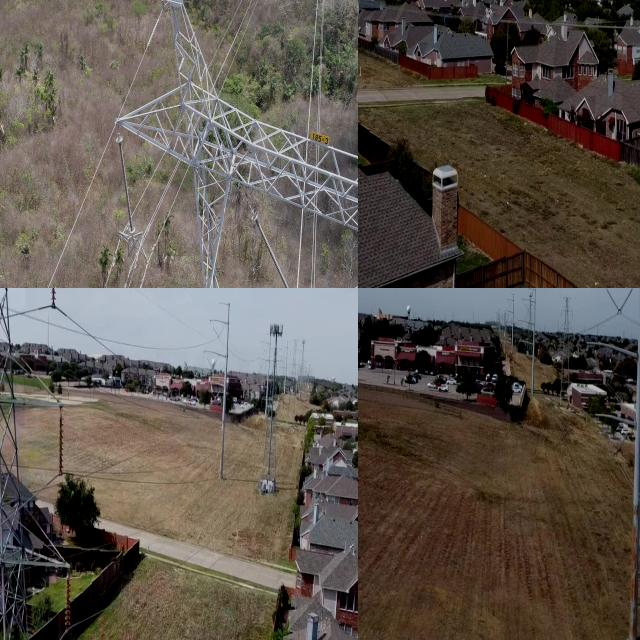杆塔: (113, 0, 358, 288), (0, 288, 79, 640), (254, 312, 286, 496), (557, 293, 574, 407)
正常绝缘子: (108, 122, 141, 246), (250, 210, 292, 288), (61, 566, 75, 640), (56, 406, 68, 481), (604, 288, 623, 317), (617, 288, 635, 316), (45, 288, 61, 315)
